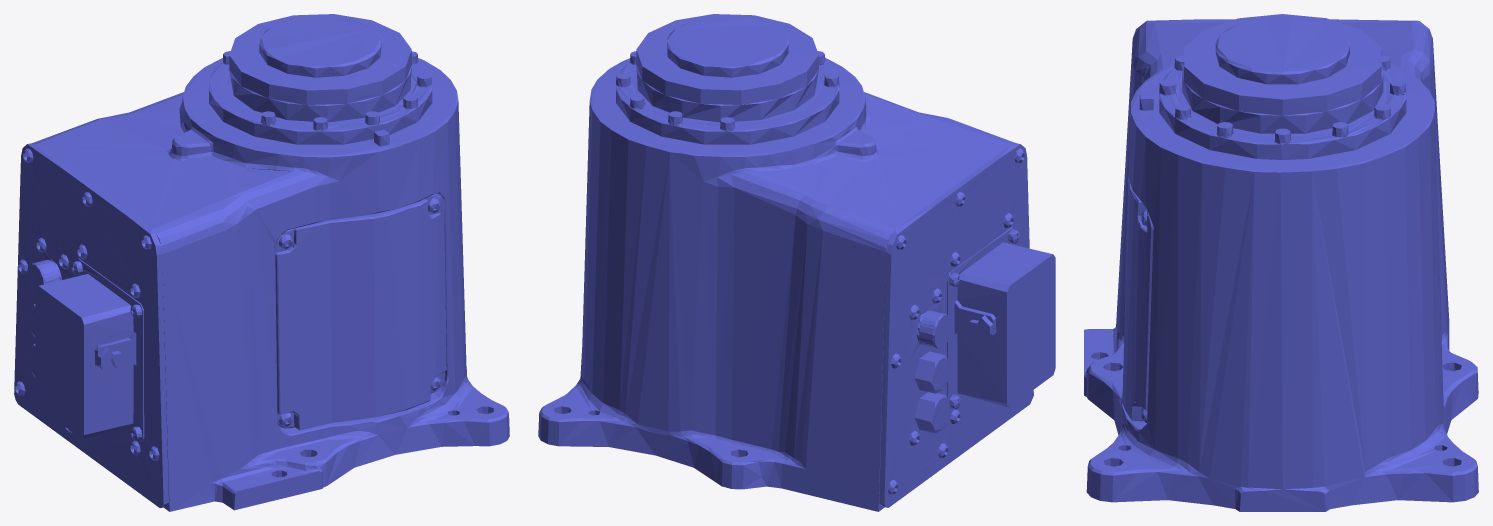
3 renders of one model, left to right at view 1: azimuth 30°, elevation 25°; view 2: azimuth 150°, elevation 25°; view 3: azimuth 270°, elevation 25°, orthographic. The views are drawn at different scales.
Parts seen in each view (by area): view 1: base_link; view 2: base_link; view 3: base_link.
Boxes of the visible parts, x1,y1,x2,y2 form: base_link: [14, 14, 509, 511]; base_link: [538, 14, 1055, 511]; base_link: [1084, 14, 1478, 511].
Bounding box in the file's own units: 0.2317 × 0.1748 × 0.195.
